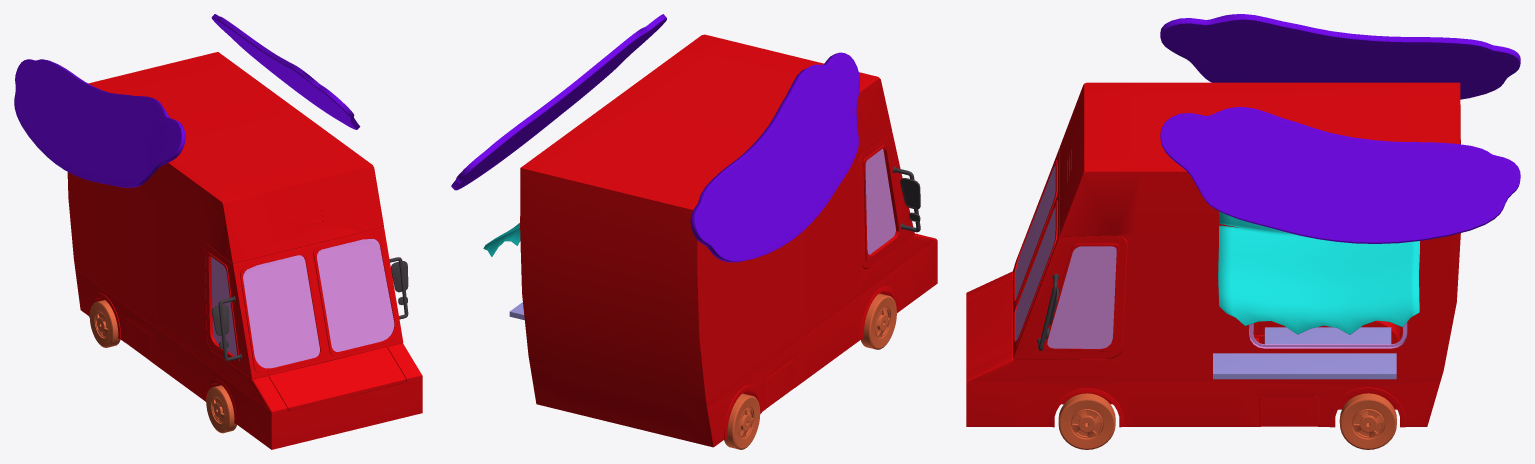
The model's file is hotdogtruck.fbx.
3 views of the same model, side by side, from view 1: azimuth 30°, elevation 25°; view 2: azimuth 150°, elevation 25°; view 3: azimuth 270°, elevation 25° (orthographic). The views are drawn at different scales.
Parts seen in each view (by area): view 1: Van_Low, Windows_Low, Hotdog_Low, Hotdog_Low.001, Wheel_Low, MetalMirrors_Low; view 2: Van_Low, Hotdog_Low, Hotdog_Low.001, Wheel_Low, Windows_Low, MetalMirrors_Low, ShadeCloth_Low; view 3: Van_Low, Hotdog_Low.001, Hotdog_Low, ShadeCloth_Low, Windows_Low, WoodenBench_Low, Wheel_Low, MetalMirrors_Low.
Boxes of the visible parts, x1=… form: Van_Low: x1=67, y1=52, x2=422, y2=449; Windows_Low: x1=211, y1=239, x2=394, y2=368; Hotdog_Low: x1=14, y1=59, x2=185, y2=187; Hotdog_Low.001: x1=211, y1=14, x2=360, y2=129; Wheel_Low: x1=89, y1=300, x2=236, y2=433; MetalMirrors_Low: x1=212, y1=257, x2=408, y2=361; Van_Low: x1=520, y1=34, x2=937, y2=447; Hotdog_Low: x1=690, y1=52, x2=859, y2=262; Hotdog_Low.001: x1=451, y1=14, x2=666, y2=190; Wheel_Low: x1=724, y1=293, x2=896, y2=449; Windows_Low: x1=865, y1=148, x2=895, y2=254; MetalMirrors_Low: x1=892, y1=166, x2=920, y2=232; ShadeCloth_Low: x1=483, y1=223, x2=520, y2=256; Van_Low: x1=966, y1=82, x2=1460, y2=427; Hotdog_Low.001: x1=1160, y1=107, x2=1520, y2=243; Hotdog_Low: x1=1160, y1=14, x2=1520, y2=99; ShadeCloth_Low: x1=1218, y1=211, x2=1419, y2=334; Windows_Low: x1=1015, y1=165, x2=1407, y2=348; WoodenBench_Low: x1=1213, y1=327, x2=1396, y2=379; Wheel_Low: x1=1058, y1=393, x2=1396, y2=449; MetalMirrors_Low: x1=1037, y1=274, x2=1059, y2=350.
Size of the model in its own units: 1.26 by 1.35 by 1.97.
